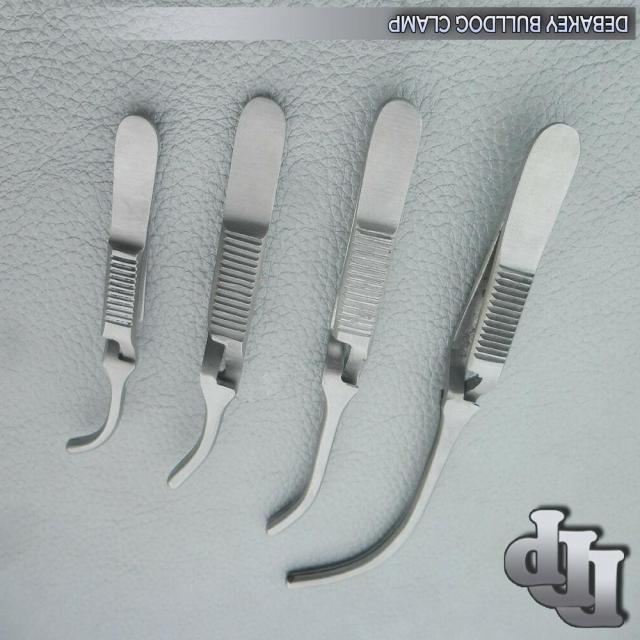Bulldog: (282, 116, 584, 590), (262, 94, 424, 538), (162, 92, 288, 493), (62, 109, 162, 456)
